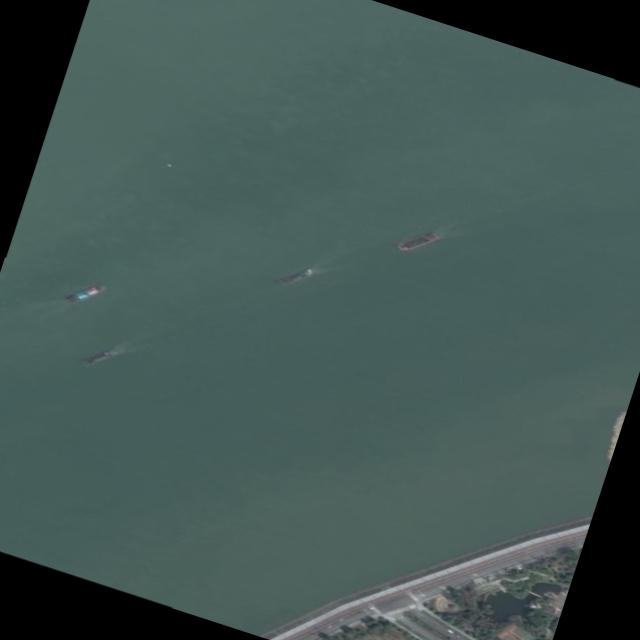ship: (61, 282, 106, 305), (394, 231, 440, 252), (76, 347, 117, 368), (274, 268, 312, 286)
